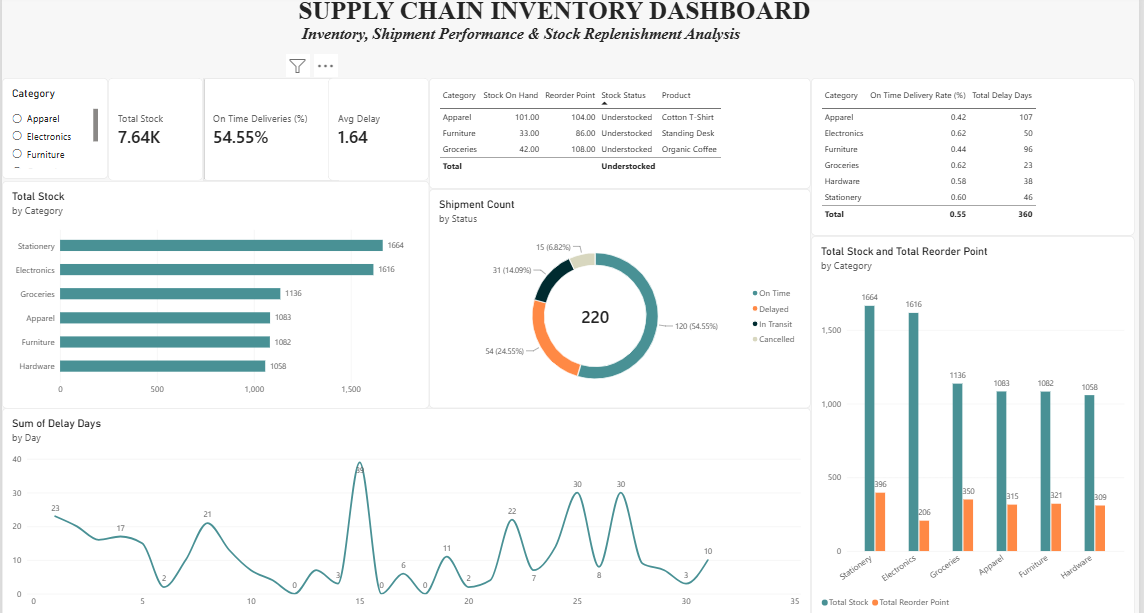

What the dashboard file says about the page in this screenshot:
{"tool":"powerbi","page":{"name":"Page 1","canvas":[1920,1080],"ordinal":0},"visuals":[{"type":"cardVisual","fields":{"Data":["Inventory.Total Stock"]},"box":[178.9,138.4,160.3,173.8],"z":0},{"type":"cardVisual","fields":{"Data":["Inventory.On Time Deliveries (%)"]},"box":[339.2,138.4,229.5,173.8],"z":1000},{"type":"cardVisual","fields":{"Data":["Inventory.Avg Delay"]},"box":[550.1,138.4,170.4,173.8],"z":2000},{"type":"clusteredBarChart","fields":{"Category":["Inventory.Category"],"Y":["Inventory.Total Stock"]},"box":[0,312.3,721,383.6],"z":3000},{"type":"clusteredColumnChart","fields":{"Category":["Inventory.Category"],"Y":["Inventory.Total Stock","Inventory.Total Reorder Point"]},"box":[1364.8,404.8,545.5,649.6],"z":4000},{"type":"lineChart","fields":{"Category":["Shipment Tracking.Dispatch Date.Variation.Date Hierarchy.Day"],"Y":["Sum(Shipment Tracking.Delay Days)"]},"box":[0,695.9,1364.8,358.6],"z":5000},{"type":"donutChart","fields":{"Category":["Shipment Tracking.Status"],"Y":["Inventory.Shipment Count"]},"box":[721,325.8,643.9,370.1],"z":6000},{"type":"listSlicer","fields":{"Values":["Inventory.Category"]},"box":[0,138.8,179.3,169.6],"z":7000},{"type":"tableEx","fields":{"Values":["Inventory.Category","Inventory.On Time Delivery Rate (%)","Inventory.Total Delay Days"]},"box":[1364.8,138.8,545.5,266],"z":8000},{"type":"tableEx","fields":{"Values":["Inventory.Category","Inventory.Stock On Hand","Inventory.Reorder Point","Inventory.Stock Status","Inventory.Product"]},"box":[721,138.8,643.9,187],"z":9000},{"type":"textbox","box":[499.3,0,865.5,138.8],"z":9001}]}

Visuals, with their boxes on the page's 1920x1080 design canvas (x1, y1, x2, y2). These are canvas units, not pixel positions in the 1144x613 screenshot, which may show the page scaled, cropped or inside an application window:
cardVisual - Inventory.Total Stock: bbox=(179, 138, 339, 312)
cardVisual - Inventory.On Time Deliveries (%): bbox=(339, 138, 569, 312)
cardVisual - Inventory.Avg Delay: bbox=(550, 138, 720, 312)
clusteredBarChart - Inventory.Category x Inventory.Total Stock: bbox=(0, 312, 721, 696)
clusteredColumnChart - Inventory.Category x Inventory.Total Stock: bbox=(1365, 405, 1910, 1054)
lineChart - Shipment Tracking.Dispatch Date.Variation.Date Hierarchy.Day x Sum(Shipment Tracking.Delay Days): bbox=(0, 696, 1365, 1054)
donutChart - Shipment Tracking.Status x Inventory.Shipment Count: bbox=(721, 326, 1365, 696)
listSlicer - Inventory.Category: bbox=(0, 139, 179, 308)
tableEx - Inventory.Category x Inventory.On Time Delivery Rate (%): bbox=(1365, 139, 1910, 405)
tableEx - Inventory.Category x Inventory.Stock On Hand: bbox=(721, 139, 1365, 326)
textbox: bbox=(499, 0, 1365, 139)
